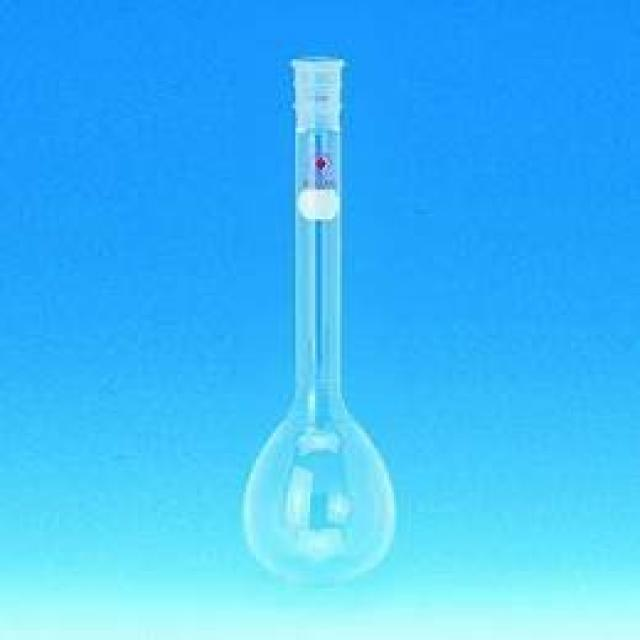Volumetric flask: (238, 44, 409, 592)
